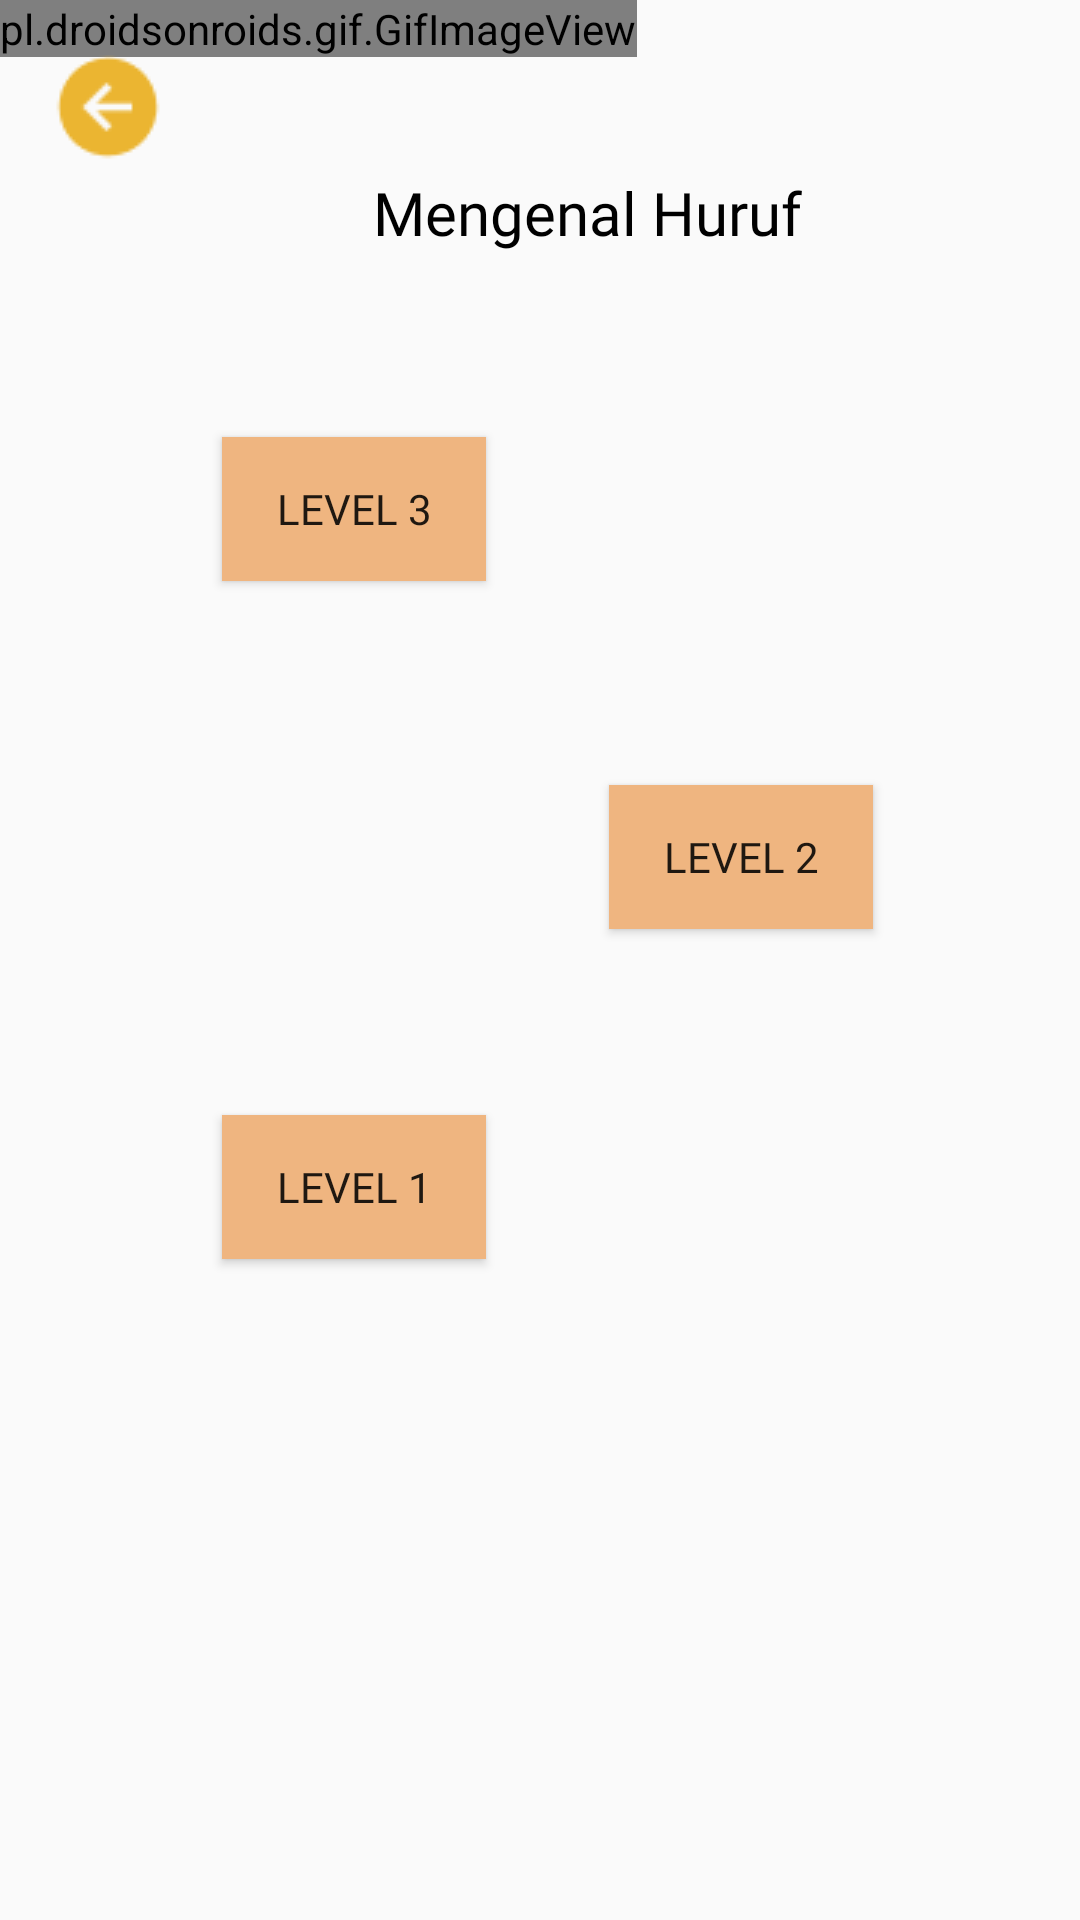

Named icons in this screenshot (1080×1920) and their centers, (x=x, y=y):
keluar: (x=108, y=102)
